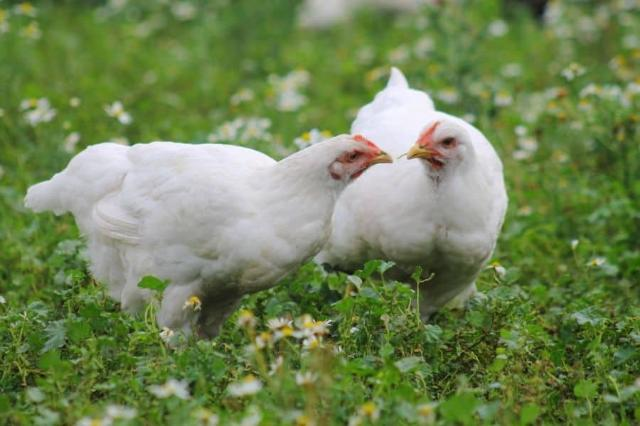Chicken: (22, 133, 393, 351), (316, 69, 508, 320)
